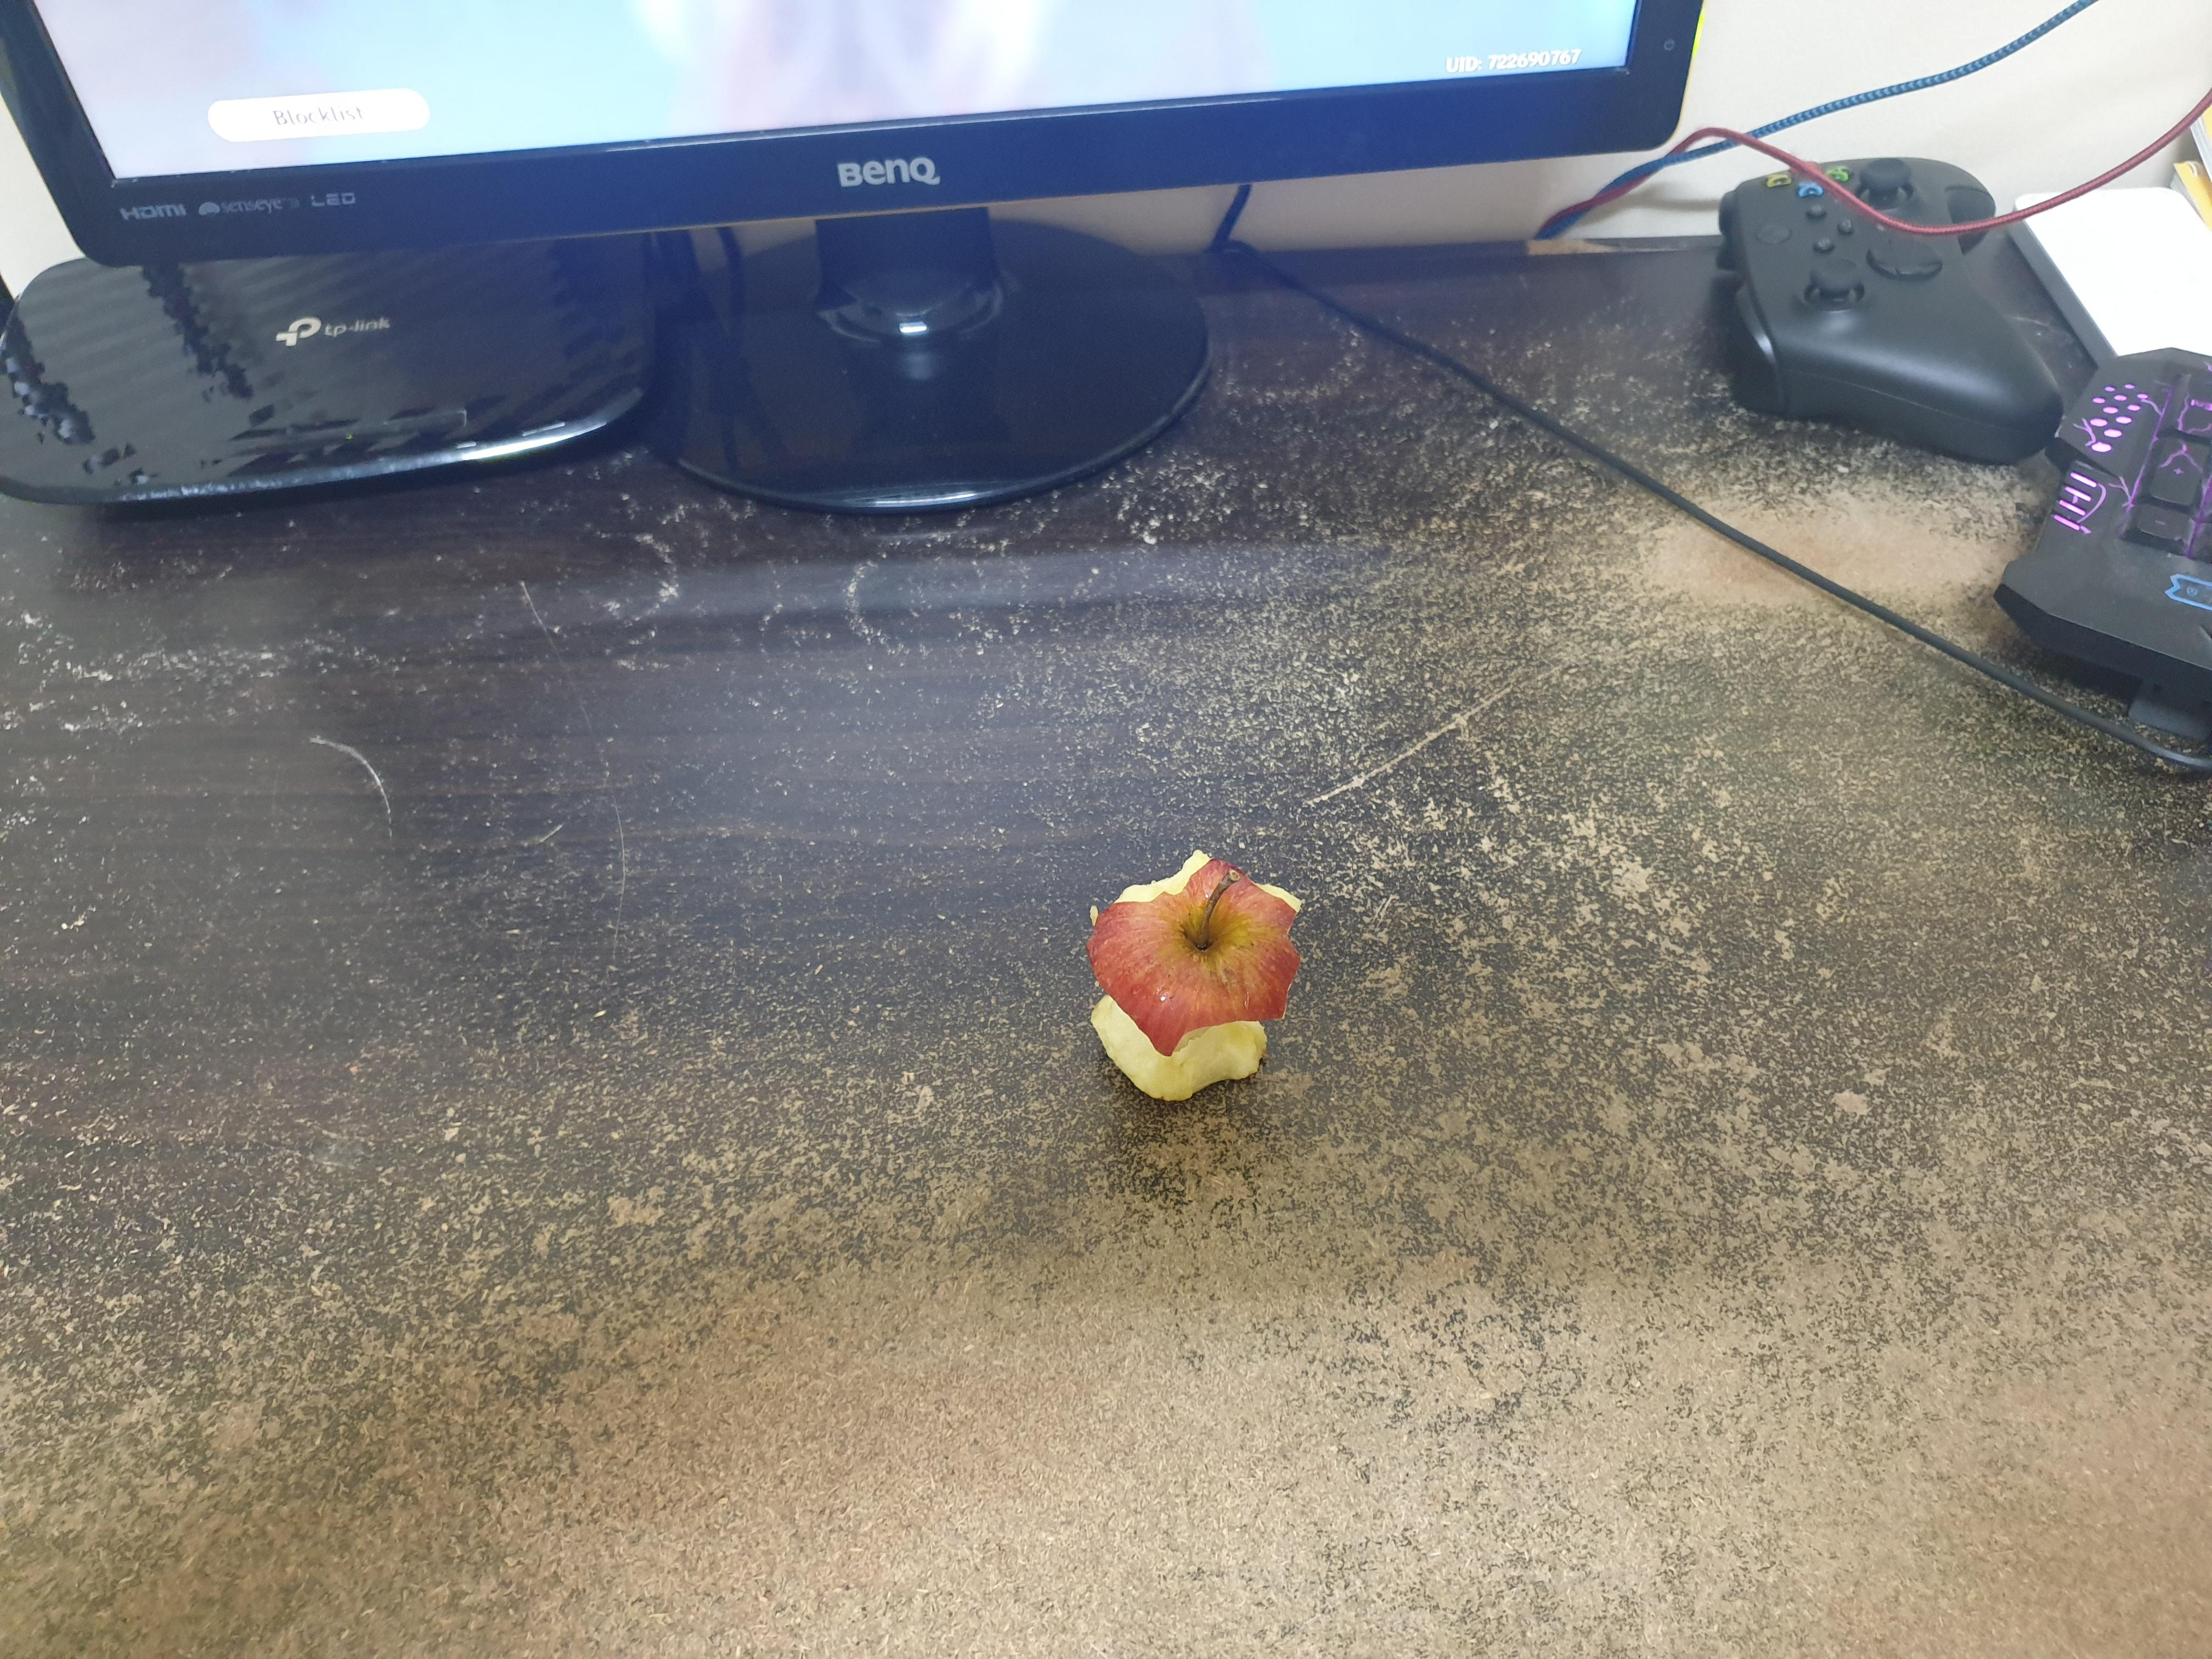Apple: (1069, 810, 1331, 1119)
